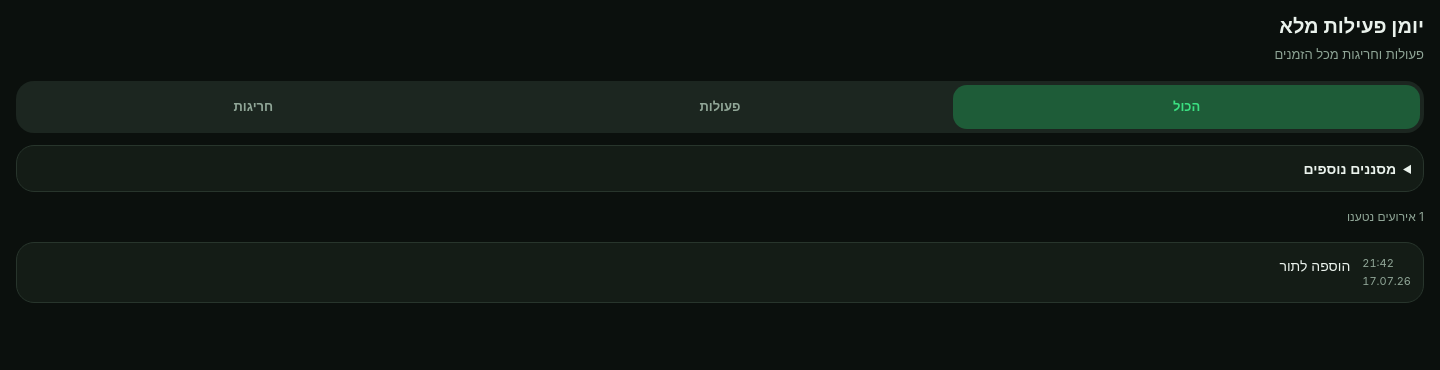
Scenario: ActivityFeed full-log filters › filters exceptions server-side without exposing manager names or an actor-name filter
The image size is (1440, 370).
Expected: the text "הוספה לתור" is shown, [1280,254,1350,276]
Click the button "חריגות": (253, 106) [20,84,487,128]
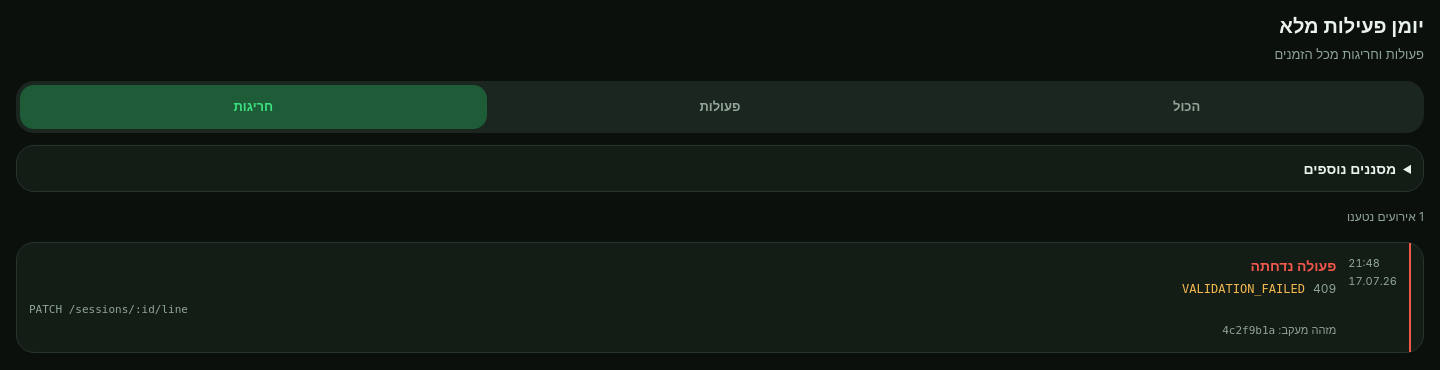
Expected: the element named "עד תאריך ושעה" is shown, [16,144,1424,192]
Now the text "פעולה נדחתה" is shown, box [1250,256,1336,274]
Now the text "VALIDATION_FAILED" is shown, box [1182,280,1305,298]
